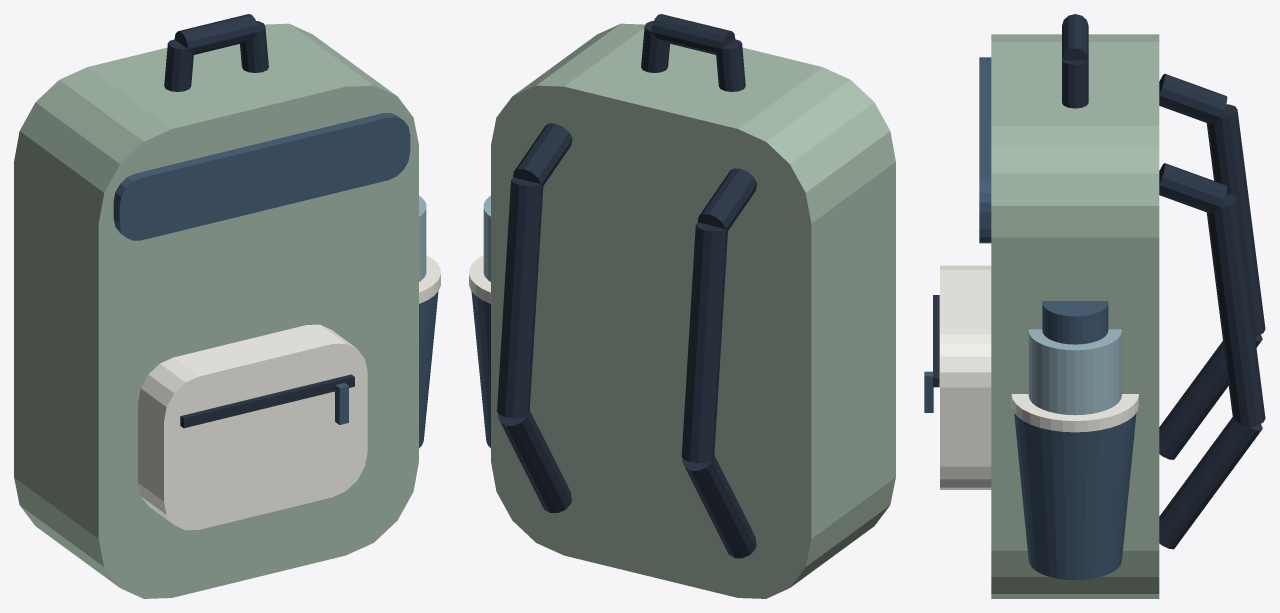
The model's file is backpack.glb.
The picture shows the model from 3 angles, left to right: view 1: azimuth 30°, elevation 25°; view 2: azimuth 150°, elevation 25°; view 3: azimuth 270°, elevation 25°; orthographic projection.
Parts seen in each view (by area): view 1: fabric shell, front pocket, lid binding, zip, carry loop1, side pocket, carry loop0, carry loop2, pocket rim, bottle neck, zip pull; view 2: fabric shell, strap -0.341, strap 0.341, strap -0.342, strap 0.342, carry loop1, strap -0.340, strap 0.340, side pocket, carry loop0, carry loop2, pocket rim (+1 smaller); view 3: fabric shell, side pocket, front pocket, strap 0.341, bottle neck, strap 0.342, strap -0.341, strap -0.342, cap, pocket rim, lid binding, strap -0.340 (+4 smaller).
Boxes of the visible parts, x1=… form: fabric shell: x1=14, y1=23, x2=418, y2=598; front pocket: x1=138, y1=324, x2=367, y2=530; lid binding: x1=113, y1=113, x2=410, y2=240; zip: x1=180, y1=374, x2=354, y2=428; carry loop1: x1=174, y1=14, x2=258, y2=54; side pocket: x1=419, y1=291, x2=438, y2=448; carry loop0: x1=164, y1=39, x2=193, y2=91; carry loop2: x1=240, y1=21, x2=268, y2=72; pocket rim: x1=419, y1=255, x2=440, y2=303; bottle neck: x1=419, y1=195, x2=426, y2=281; zip pull: x1=335, y1=383, x2=348, y2=424; fabric shell: x1=491, y1=23, x2=895, y2=598; strap -0.341: x1=681, y1=222, x2=727, y2=463; strap 0.341: x1=497, y1=177, x2=543, y2=417; strap -0.342: x1=682, y1=455, x2=756, y2=558; strap 0.342: x1=497, y1=410, x2=571, y2=512; carry loop1: x1=651, y1=14, x2=735, y2=54; strap -0.340: x1=698, y1=168, x2=757, y2=230; strap 0.340: x1=513, y1=123, x2=572, y2=185; side pocket: x1=471, y1=291, x2=490, y2=448; carry loop0: x1=716, y1=39, x2=745, y2=91; carry loop2: x1=641, y1=21, x2=669, y2=72; pocket rim: x1=469, y1=255, x2=490, y2=303; fabric shell: x1=991, y1=34, x2=1159, y2=598; side pocket: x1=1014, y1=413, x2=1136, y2=580; front pocket: x1=940, y1=265, x2=991, y2=489; strap 0.341: x1=1206, y1=194, x2=1265, y2=427; bottle neck: x1=1028, y1=329, x2=1121, y2=415; strap 0.342: x1=1159, y1=417, x2=1262, y2=549; strap -0.341: x1=1206, y1=104, x2=1265, y2=336; strap -0.342: x1=1159, y1=334, x2=1262, y2=459; cap: x1=1042, y1=301, x2=1108, y2=344; pocket rim: x1=1011, y1=394, x2=1138, y2=432; lid binding: x1=979, y1=57, x2=991, y2=243; strap -0.340: x1=1159, y1=73, x2=1227, y2=123.
Bounding box in the file's own units: 1.38 × 1.84 × 1.1.
